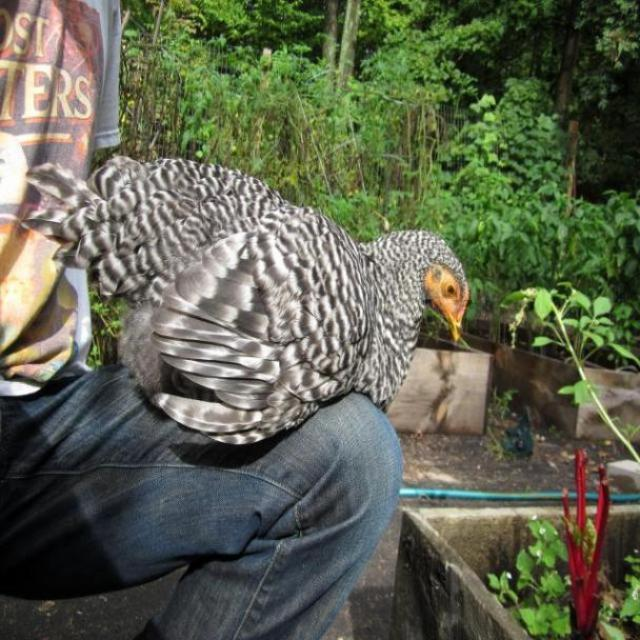Chicken: (26, 154, 469, 443)
